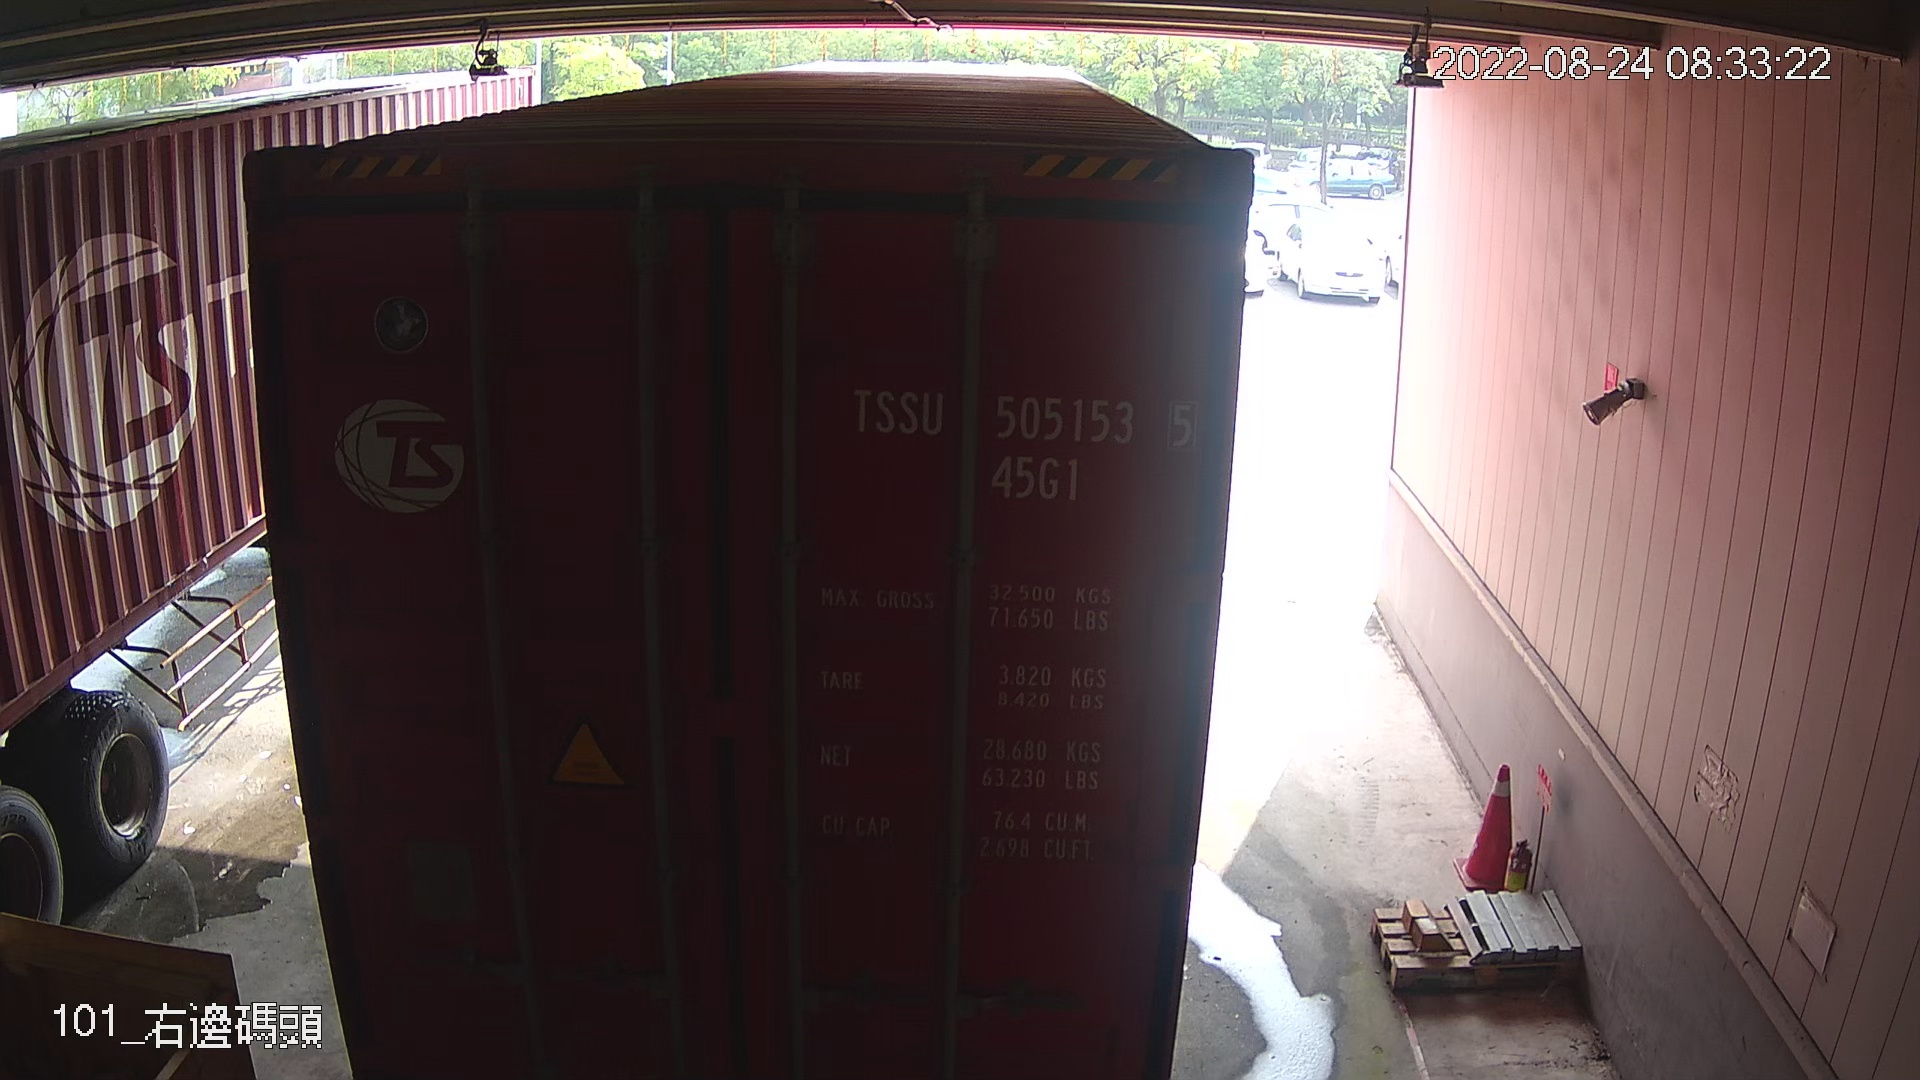container: (829, 372, 1207, 520)
